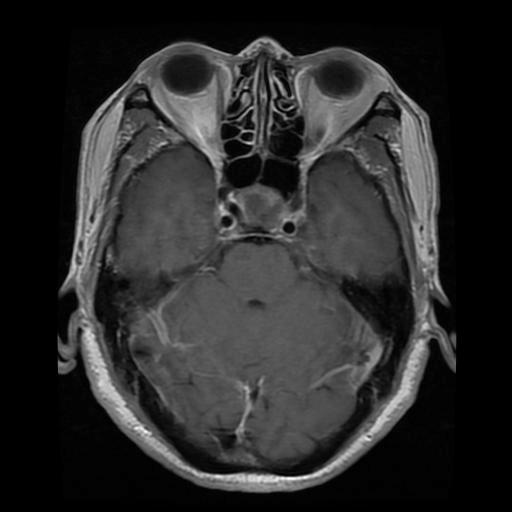Tumour-Pituitary: (214, 183, 311, 244)
